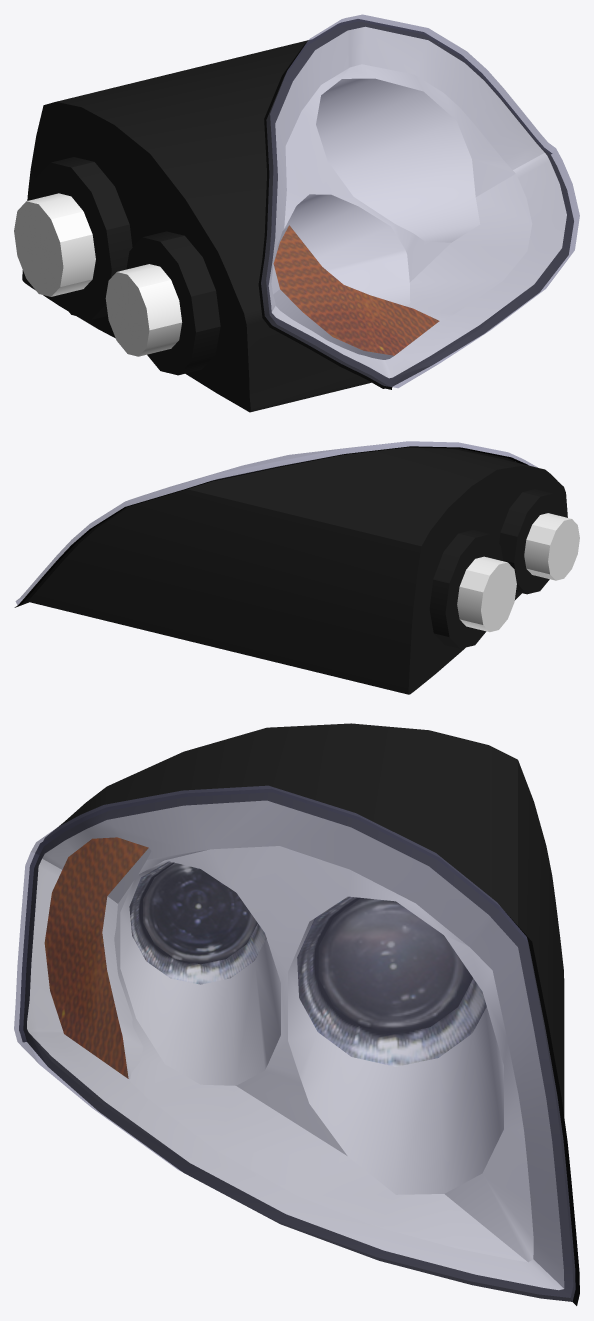
3 renders of one model, top to bottom at view 1: azimuth 30°, elevation 25°; view 2: azimuth 150°, elevation 25°; view 3: azimuth 270°, elevation 25°, orthographic. The views are drawn at different scales.
Parts seen in each view (by area): view 1: U417_061B_R_U417_061B_R_6_DTaSI, U417_061B_R_U417_061B_R_3_N, U417_061B_R_U417_061B_R_5_N, U417_061B_R_U417_061B_R_4_N, U417_061B_R_U417_061B_R_7_N; view 2: U417_061B_R_U417_061B_R_5_N, U417_061B_R_U417_061B_R_3_N, U417_061B_R_U417_061B_R_6_DTaSI, U417_061B_R_U417_061B_R_7_N; view 3: U417_061B_R_U417_061B_R_6_DTaSI, U417_061B_R_U417_061B_R_3_N, U417_061B_R_U417_061B_R_5_N, U417_061B_R_U417_061B_R_2_N, U417_061B_R_U417_061B_R_4_N, U417_061B_R_1_N_U417_061B_R, U417_061B_R_U417_061B_R_7_N.
Boxes of the visible parts, x1=… form: U417_061B_R_U417_061B_R_6_DTaSI: x1=261, y1=14, x2=579, y2=387; U417_061B_R_U417_061B_R_3_N: x1=14, y1=27, x2=566, y2=378; U417_061B_R_U417_061B_R_5_N: x1=22, y1=21, x2=573, y2=412; U417_061B_R_U417_061B_R_4_N: x1=273, y1=225, x2=439, y2=355; U417_061B_R_U417_061B_R_7_N: x1=258, y1=19, x2=551, y2=389; U417_061B_R_U417_061B_R_5_N: x1=19, y1=447, x2=567, y2=694; U417_061B_R_U417_061B_R_3_N: x1=457, y1=513, x2=579, y2=632; U417_061B_R_U417_061B_R_6_DTaSI: x1=15, y1=441, x2=537, y2=604; U417_061B_R_U417_061B_R_7_N: x1=14, y1=446, x2=528, y2=607; U417_061B_R_U417_061B_R_6_DTaSI: x1=14, y1=785, x2=575, y2=1301; U417_061B_R_U417_061B_R_3_N: x1=27, y1=800, x2=564, y2=1289; U417_061B_R_U417_061B_R_5_N: x1=23, y1=723, x2=575, y2=1301; U417_061B_R_U417_061B_R_2_N: x1=297, y1=896, x2=486, y2=1066; U417_061B_R_U417_061B_R_4_N: x1=44, y1=837, x2=148, y2=1078; U417_061B_R_1_N_U417_061B_R: x1=129, y1=861, x2=266, y2=984; U417_061B_R_U417_061B_R_7_N: x1=19, y1=789, x2=579, y2=1305.
Bounding box in the file's own units: 54 × 20.81 × 37.53.
